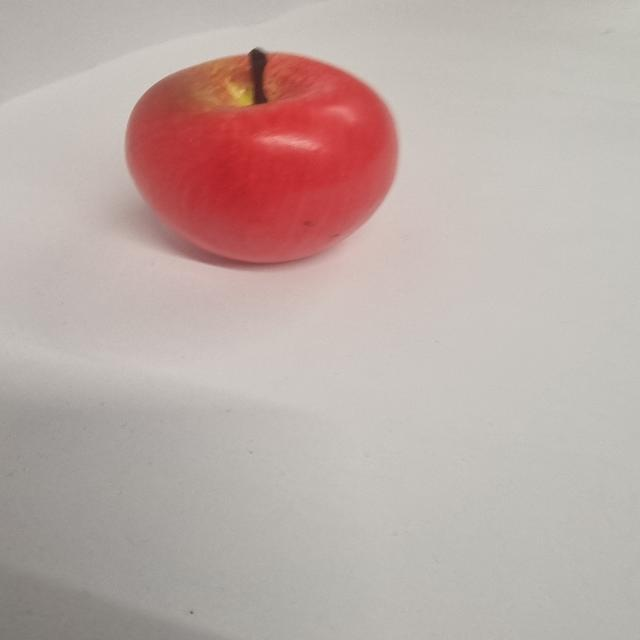apple: (124, 47, 398, 264)
